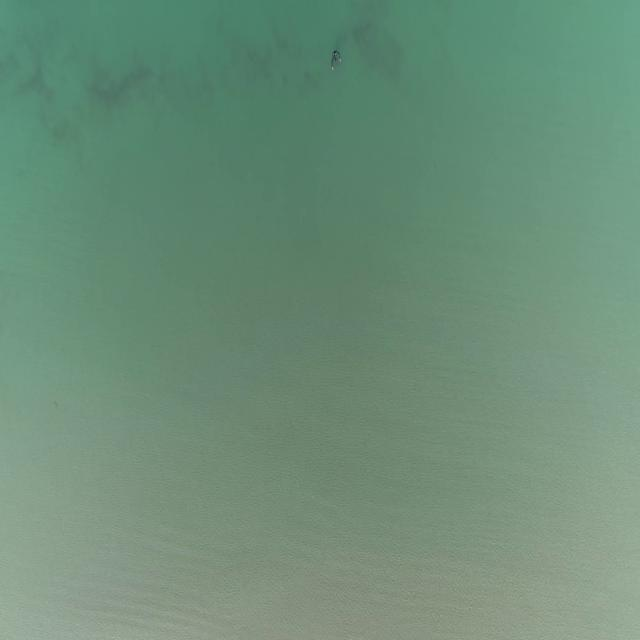person: (330, 50, 343, 69)
